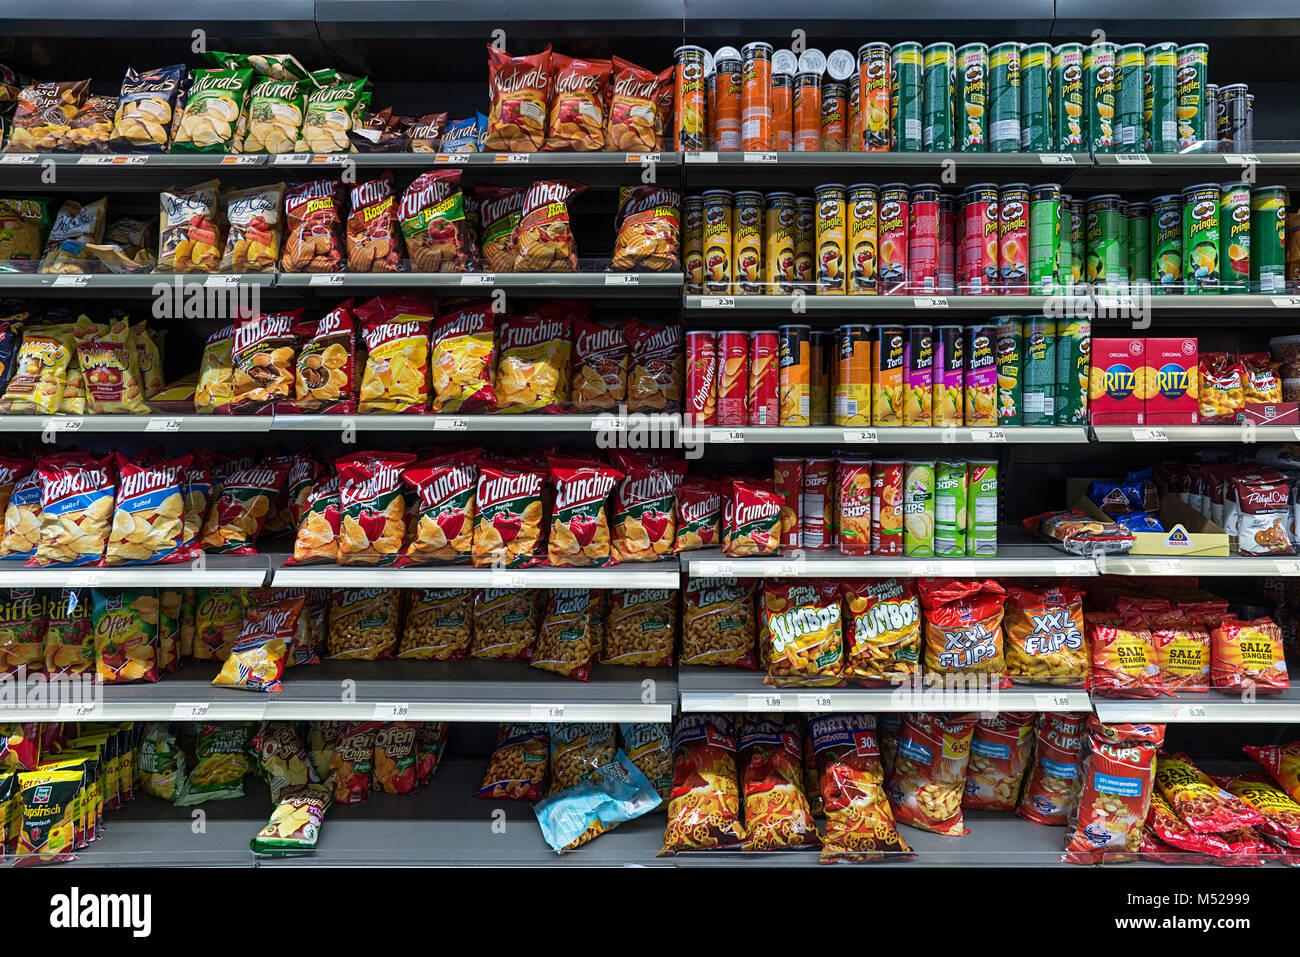empty: (1257, 43, 1294, 150), (999, 452, 1032, 555), (448, 731, 476, 843)
misalignment: (532, 762, 653, 845), (209, 594, 301, 693), (251, 773, 327, 857), (1039, 510, 1125, 552), (343, 111, 418, 158), (82, 235, 162, 275), (146, 369, 205, 415)
